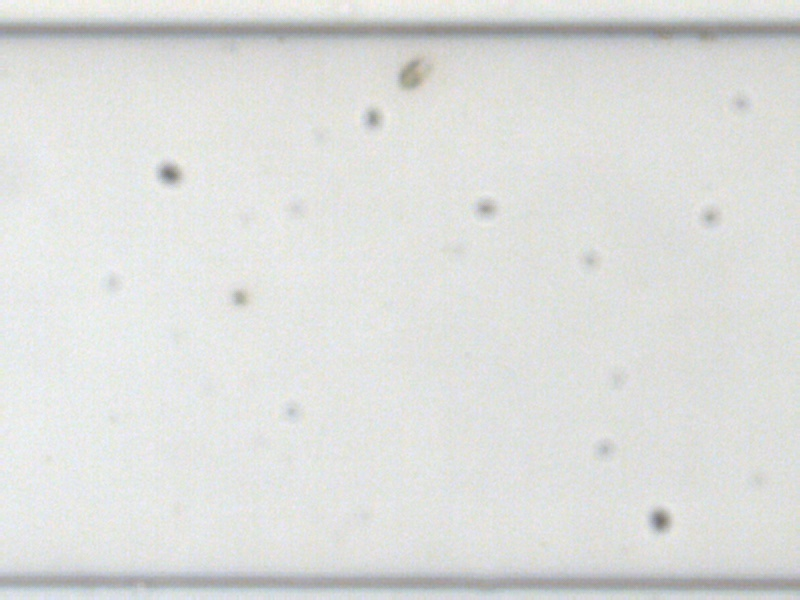Chlorella: (232, 289, 249, 304)
Dunaliella salina: (398, 53, 429, 90)
